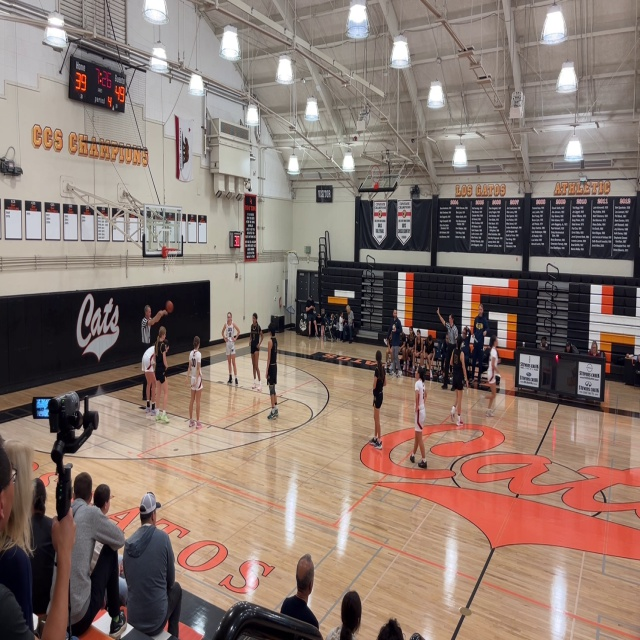Basketball: (166, 301, 173, 313)
